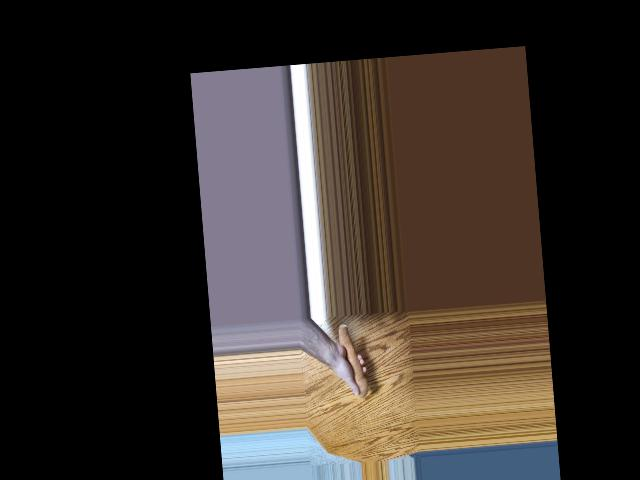sweet_potato: (336, 322, 369, 398)
